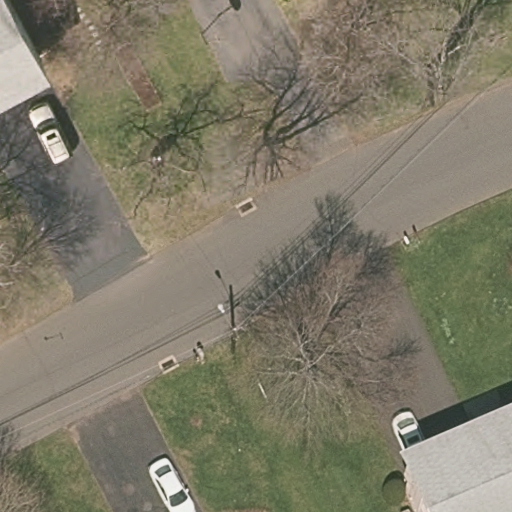DT: (227, 324, 241, 352)
